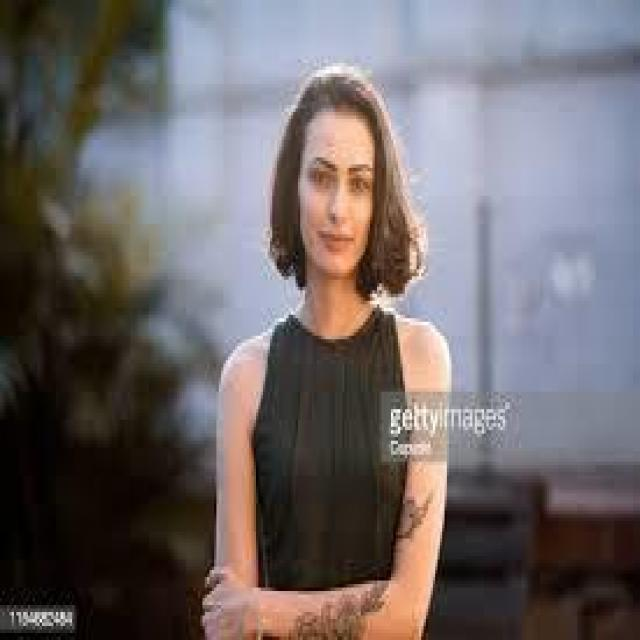person: (174, 49, 444, 636)
